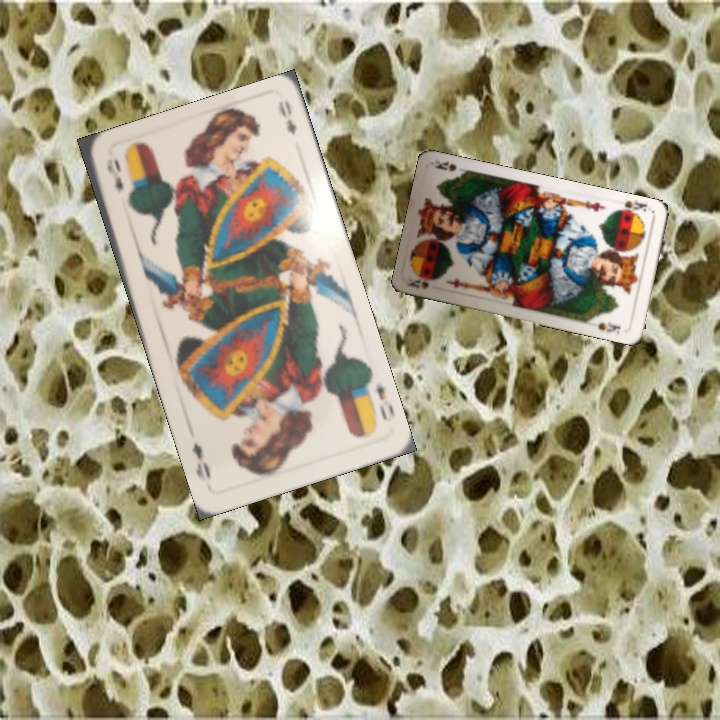EO: (359, 375, 396, 423), (102, 155, 126, 195)
SK: (615, 197, 650, 219), (406, 274, 431, 291)
